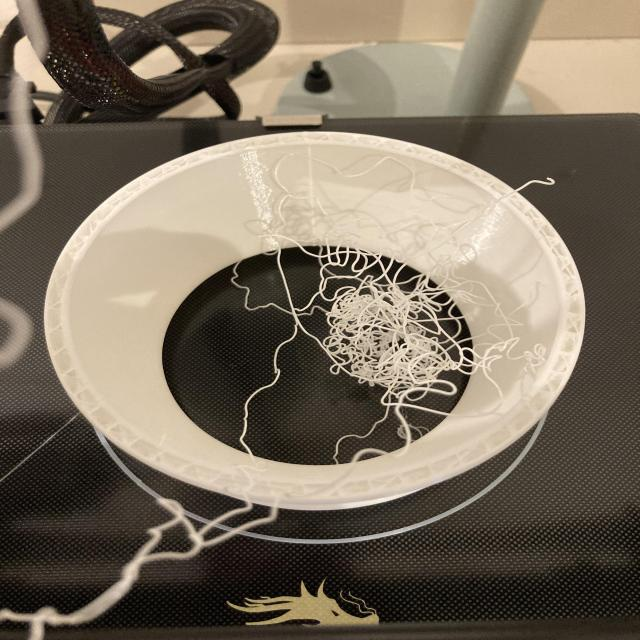spaghetti: (246, 202, 497, 464)
